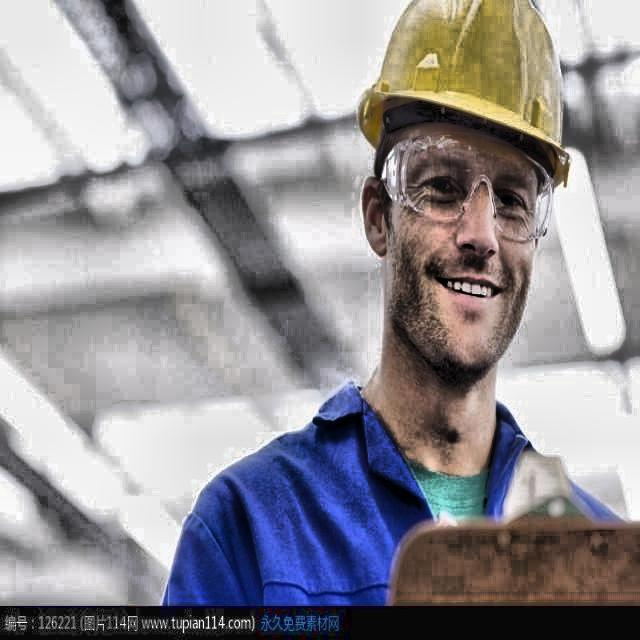person: (161, 3, 640, 631)
